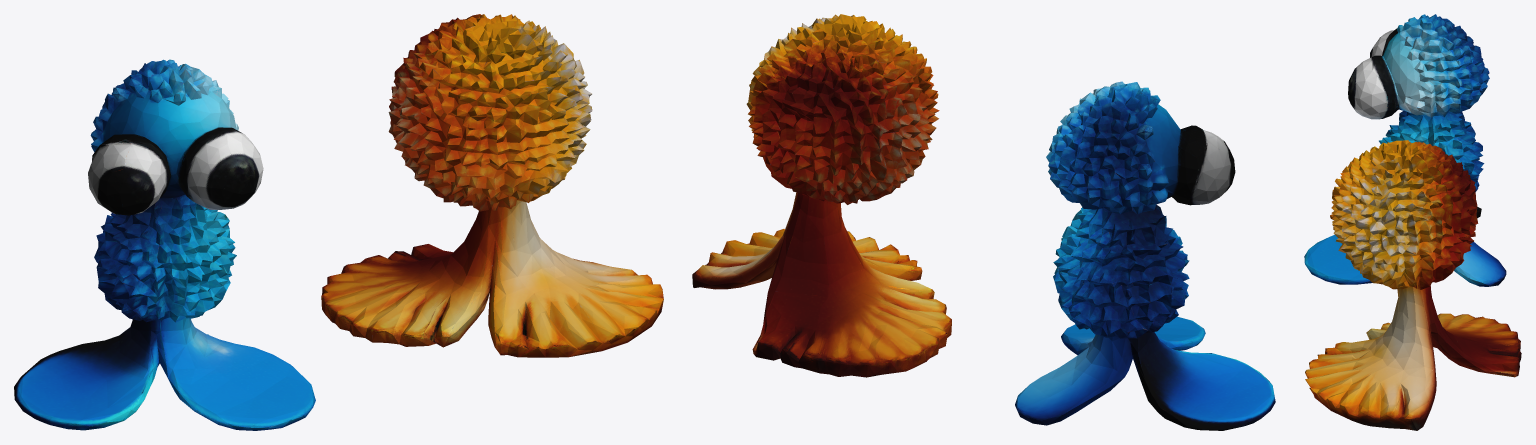
File: kora_v6bench.glb
3 views of the same model, side by side, from view 1: azimuth 30°, elevation 25°; view 2: azimuth 150°, elevation 25°; view 3: azimuth 270°, elevation 25° (orthographic). The views are drawn at different scales.
Parts seen in each view (by area): view 1: world; view 2: world; view 3: world.
Boxes of the visible parts, left/top/right/bottom form: world: left=14, top=14, right=663, bottom=430; world: left=692, top=14, right=1275, bottom=430; world: left=1304, top=14, right=1521, bottom=430.
Bounding box in the file's own units: 0.8885 × 0.4622 × 0.3691.
1 material, 1 textured.
